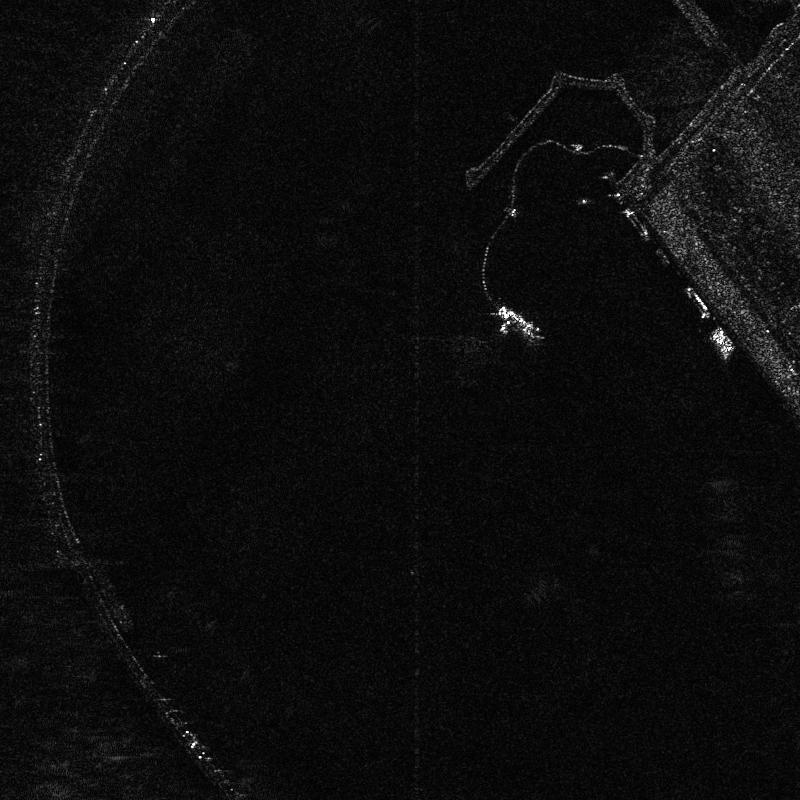ship: (624, 208, 649, 240), (686, 286, 710, 318), (716, 327, 735, 351), (712, 333, 728, 355)
